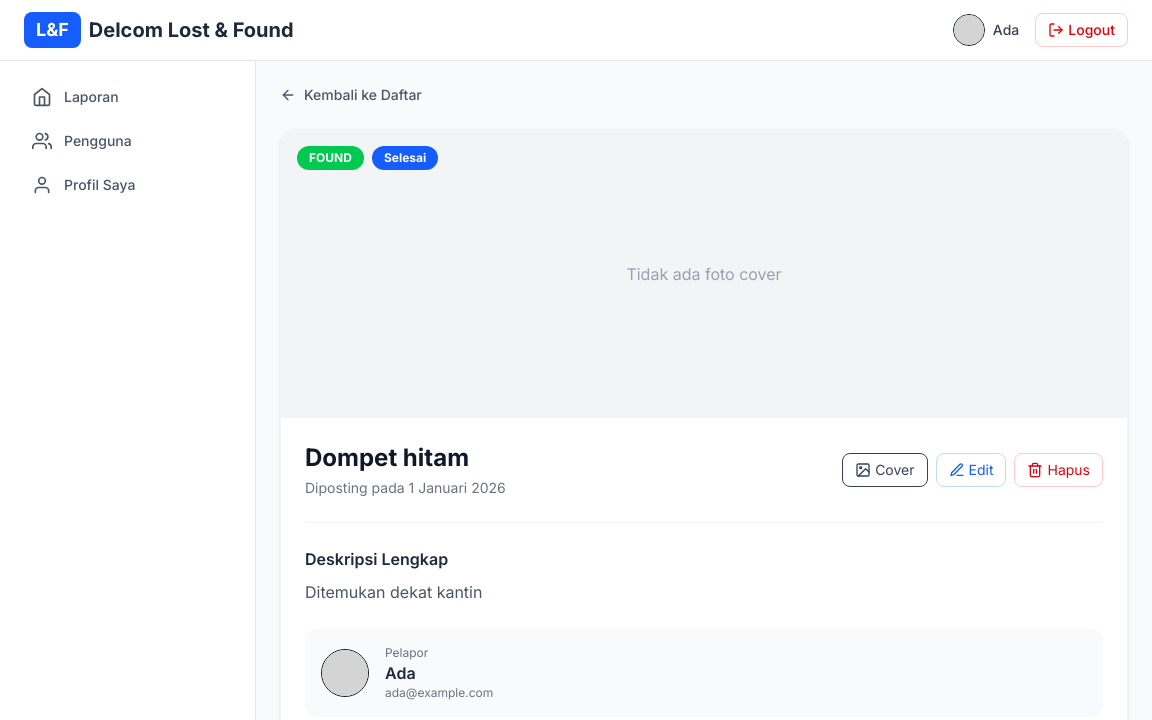
Test: lost and found details › shows the no-cover placeholder in the cover editor
Check: the heading "Dompet hitam" is shown, box [305,443,469,472]
Click the button named "Ubah foto cover laporan": (885, 470) [842,453,928,487]
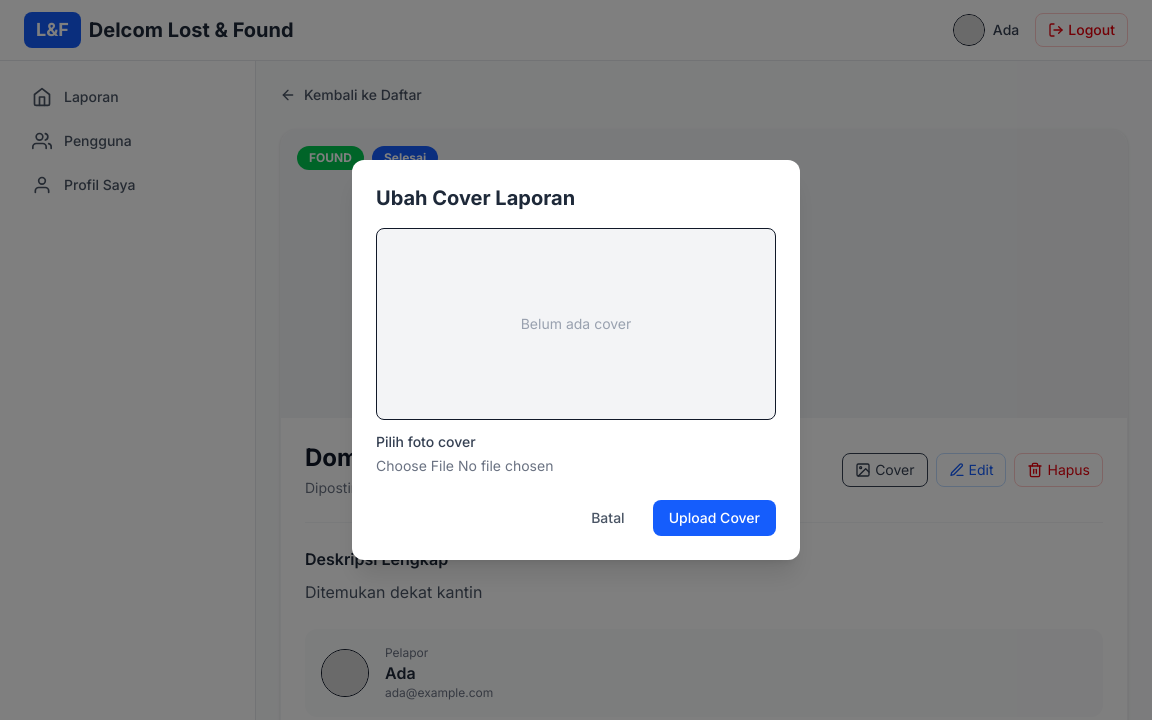
Check: the text "Belum ada cover" is shown, box [521,314,631,334]
